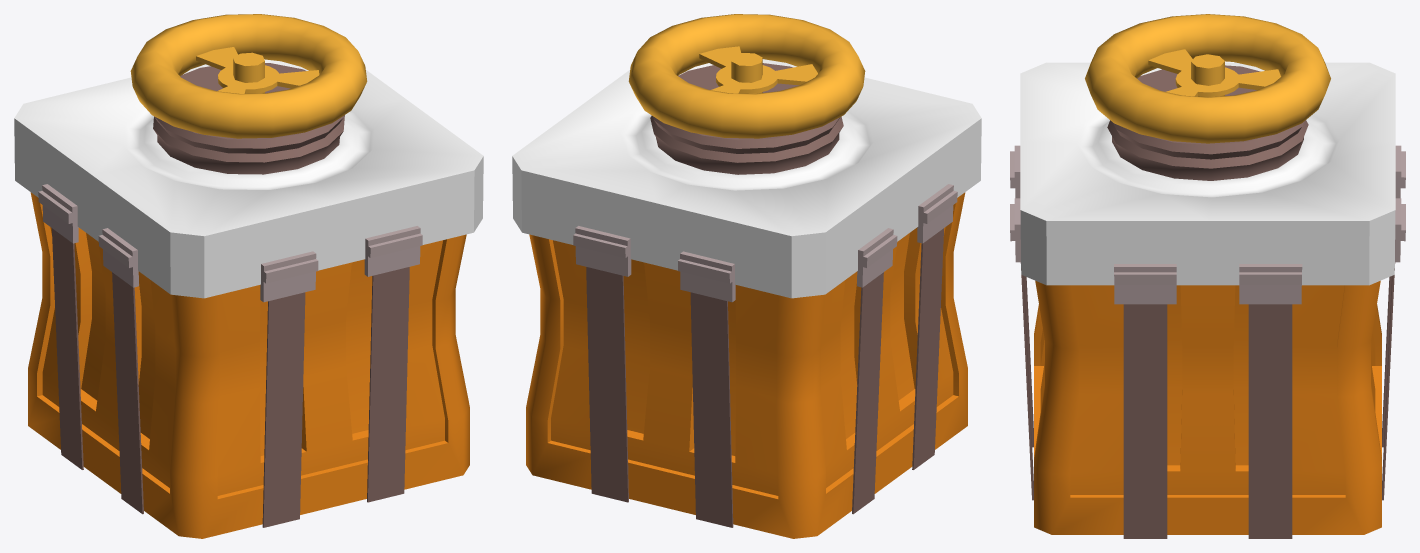
3 views of the same model, side by side, from view 1: azimuth 30°, elevation 25°; view 2: azimuth 150°, elevation 25°; view 3: azimuth 270°, elevation 25° (orthographic). The views are drawn at different scales.
Parts seen in each view (by area): view 1: SM_Box; view 2: SM_Box; view 3: SM_Box.
Part boxes in pixels (x1,y1,x2,y2): SM_Box: [14, 14, 483, 538]; SM_Box: [512, 14, 981, 538]; SM_Box: [1010, 14, 1405, 538].
Bounding box in the file's own units: 1.15 × 1.31 × 1.15.
